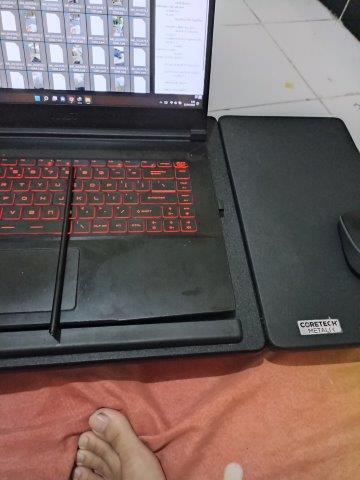sedotan: (49, 168, 75, 330)
